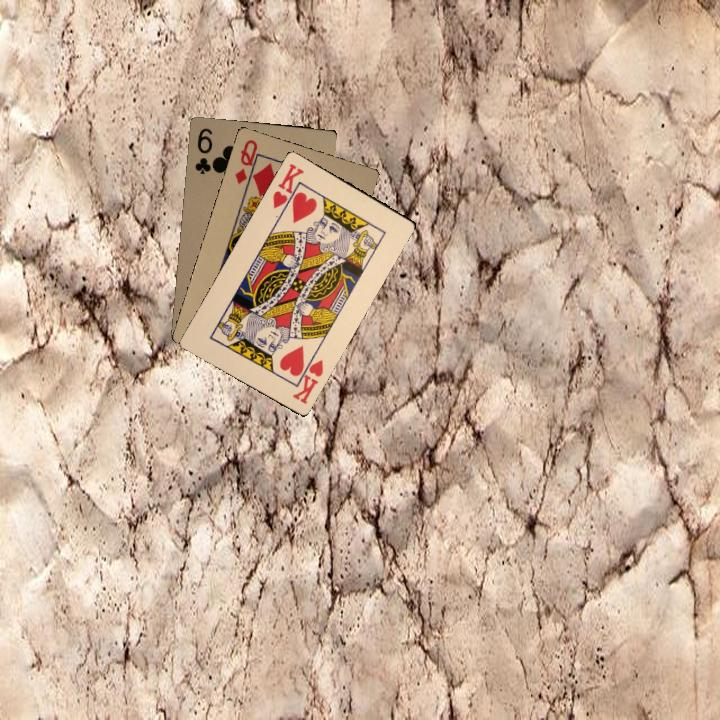6c: (191, 124, 215, 177)
Kh: (269, 159, 307, 216), (289, 351, 326, 407)
Qd: (231, 135, 261, 192)
